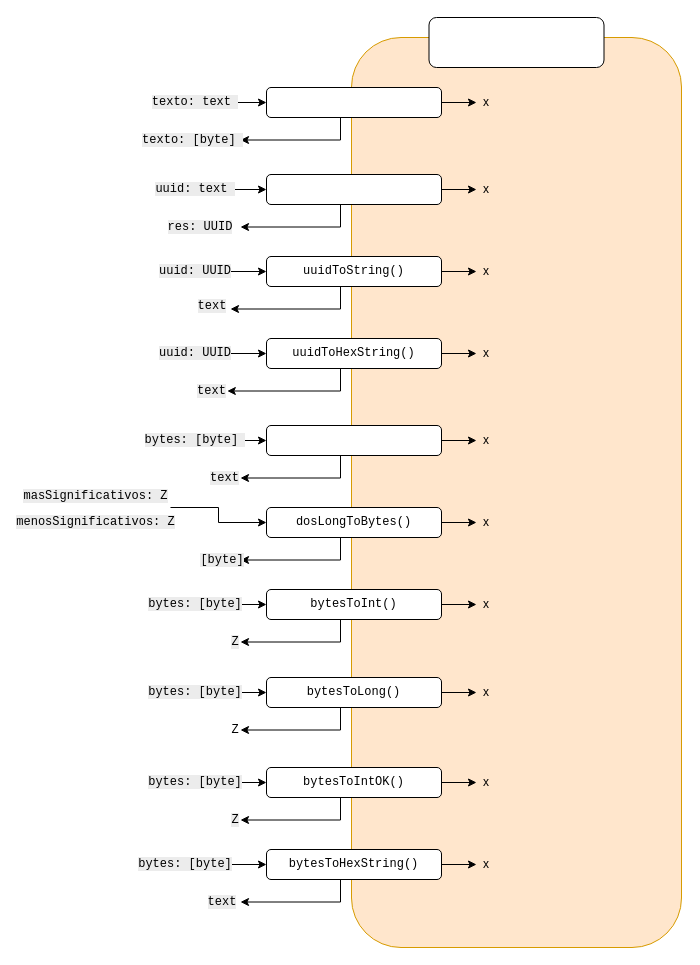
The diagram is 700 pixels wide and 965 high, and some of its shapes have lost their labels. The shapes that lost their labels are listed below. From the top down, each one's centre as x and y in pixels, then its label:
At point 516,42: "Utilidades".
At point 354,102: "stringToBytes ()".
At point 354,189: "stringToUUID()".
At point 354,440: "bytesToString()".
